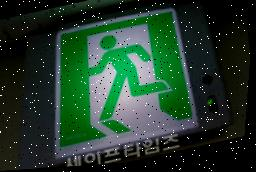emergency_exit: (53, 7, 200, 158)
